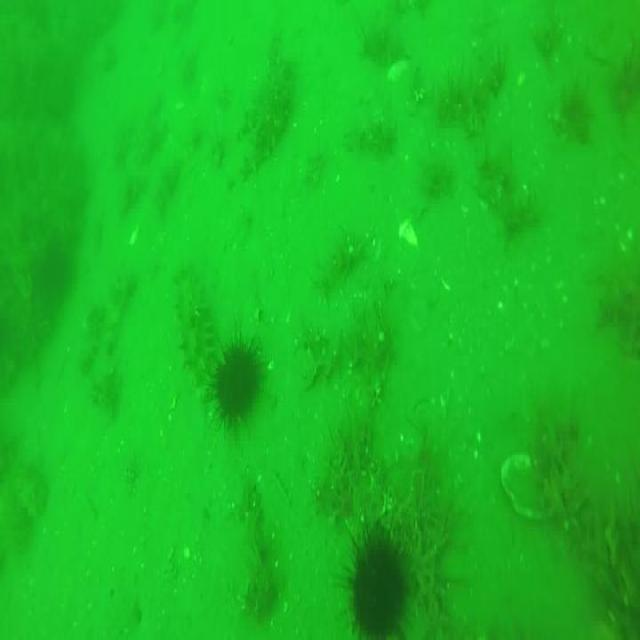echinus: (338, 532, 406, 640), (209, 322, 264, 440)
scallop: (501, 455, 570, 523)
